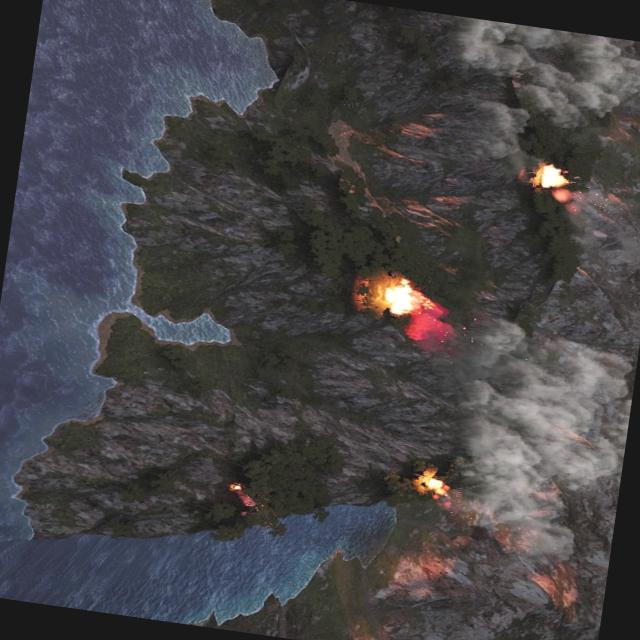fire: (374, 278, 438, 322), (535, 164, 570, 192), (418, 471, 451, 498), (229, 482, 257, 508)
smoke: (436, 323, 640, 590), (431, 15, 640, 176), (547, 190, 631, 232), (402, 298, 459, 356)
